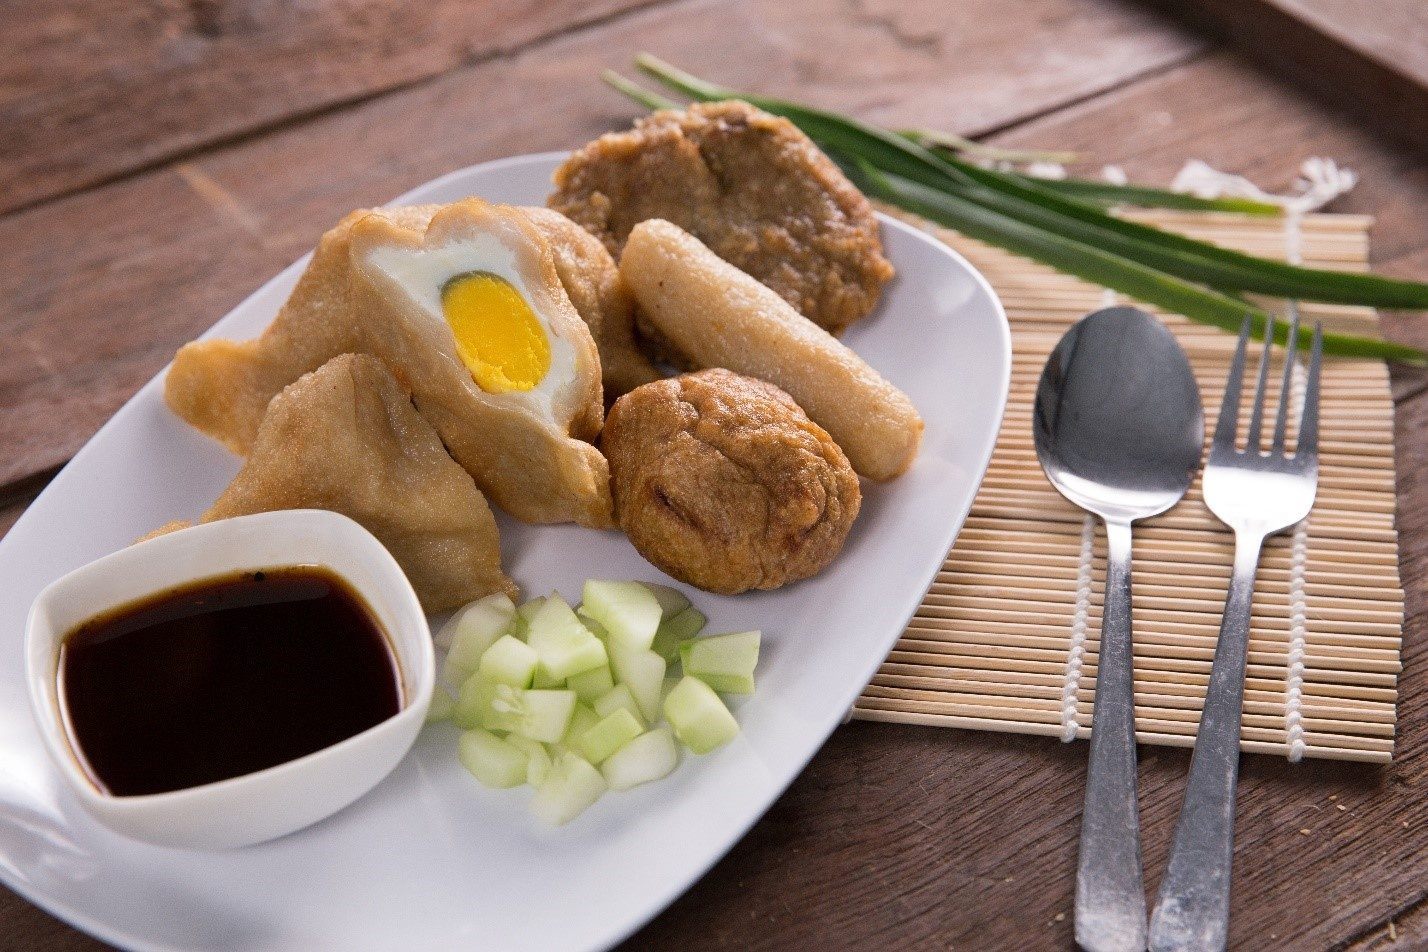pempek: (192, 110, 852, 607)
